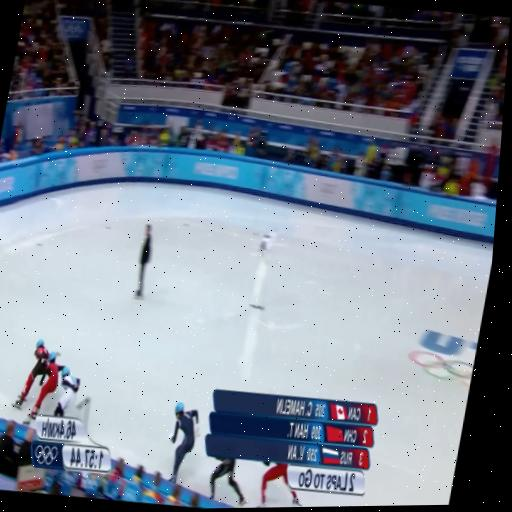Skater: (23, 352, 63, 423), (12, 339, 49, 407), (169, 403, 198, 482), (53, 367, 79, 417)
